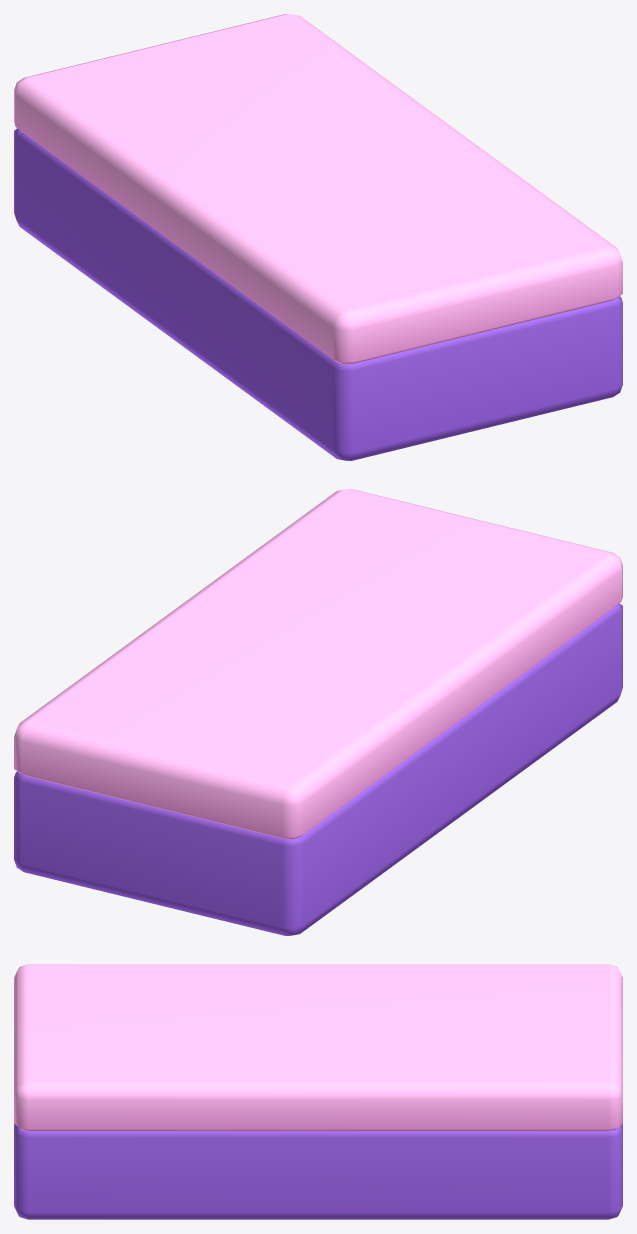
File: Platform_13.glb
The picture shows the model from 3 angles, top to bottom: view 1: azimuth 30°, elevation 25°; view 2: azimuth 150°, elevation 25°; view 3: azimuth 270°, elevation 25°; orthographic projection. The views are drawn at different scales.
Visible parts, largest first — view 1: Platform_13; view 2: Platform_13; view 3: Platform_13.
Boxes of the visible parts, x1,y1,x2,y2 form: Platform_13: (14, 14, 622, 460); Platform_13: (14, 489, 622, 935); Platform_13: (14, 964, 622, 1219).
Size of the model in its own units: 6 by 3 by 12.
1 material, 1 textured.
